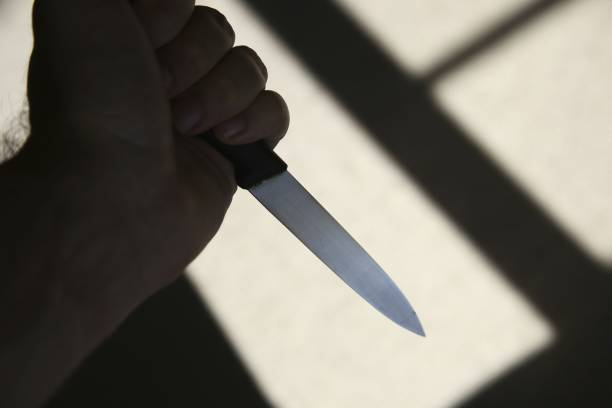knife: (199, 127, 429, 339)
